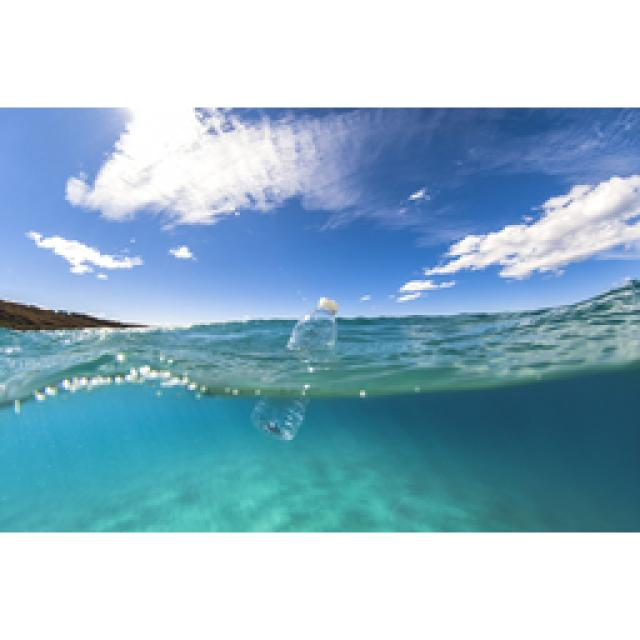plastic: (250, 294, 340, 441)
